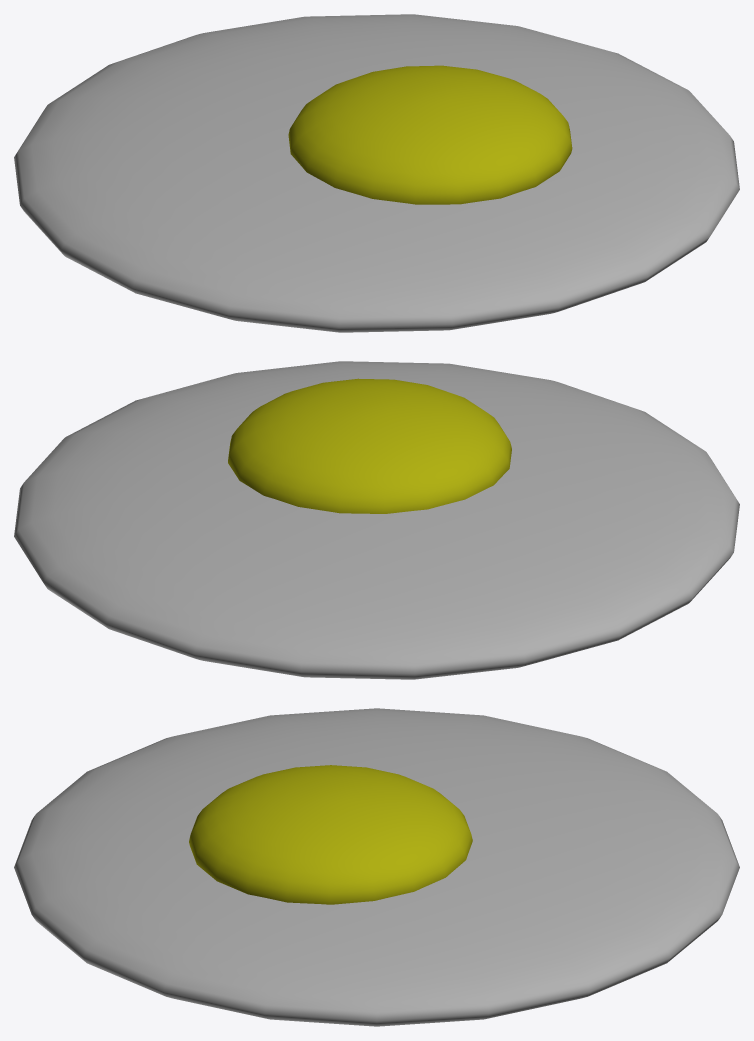
The model's file is Egg.fbx.
3 views of the same model, one above another, from view 1: azimuth 30°, elevation 25°; view 2: azimuth 150°, elevation 25°; view 3: azimuth 270°, elevation 25° (orthographic).
Visible parts, largest first — view 1: pSphere4; view 2: pSphere4; view 3: pSphere4.
Part boxes in pixels (left/top/right/bottom): pSphere4: left=14, top=14, right=739, bottom=332; pSphere4: left=14, top=361, right=739, bottom=679; pSphere4: left=14, top=708, right=739, bottom=1026.
Bounding box in the file's own units: 2 × 0.3987 × 2.
